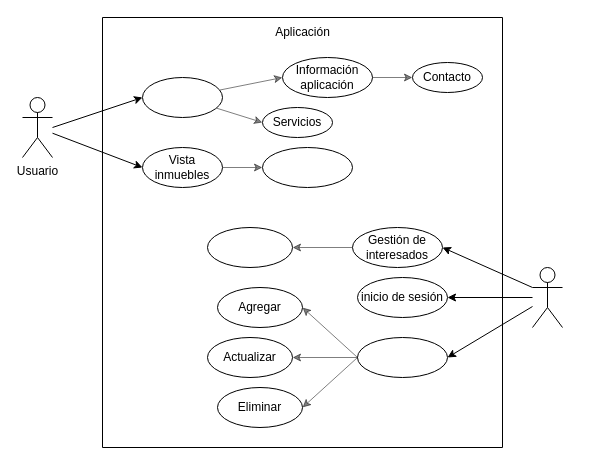
The diagram is 602 pixels wide and 465 high, and some of its shapes have lost their labels. The shapes that lost their labels are listed below. From the top down, each one's centre as x and y in pixels, then its label:
At (182,97): "Inicio".
At (307,167): "Información detallada".
At (249,247): "Información".
At (547,297): "Administrador".
At (402,357): "Gestión de inmuebles".
